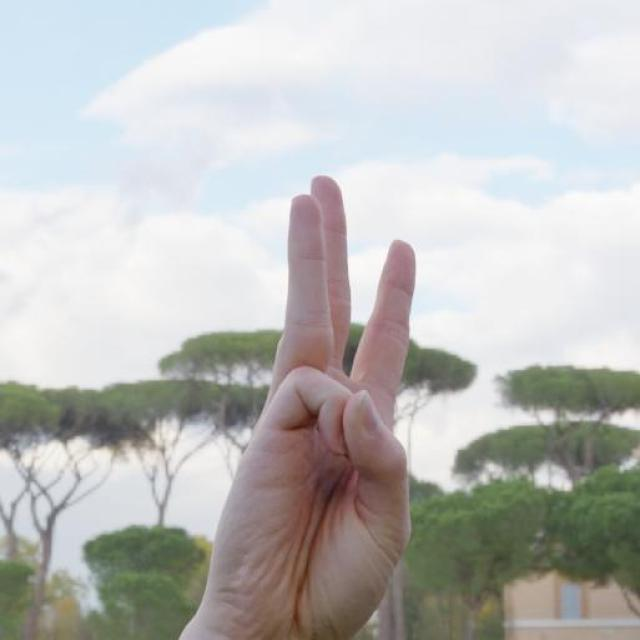W: (182, 169, 421, 640)
